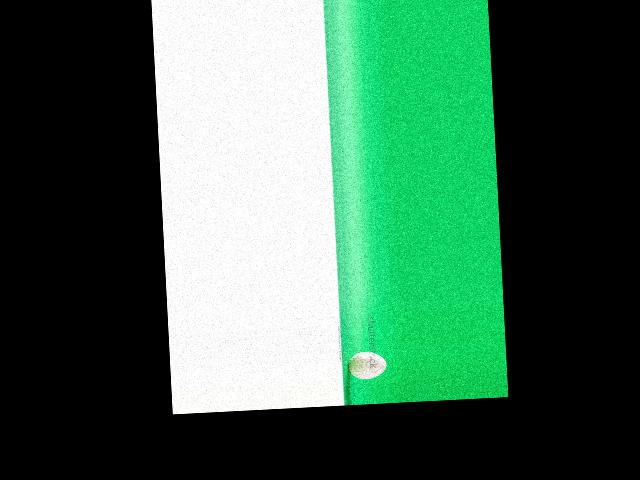egg: (346, 351, 386, 380)
